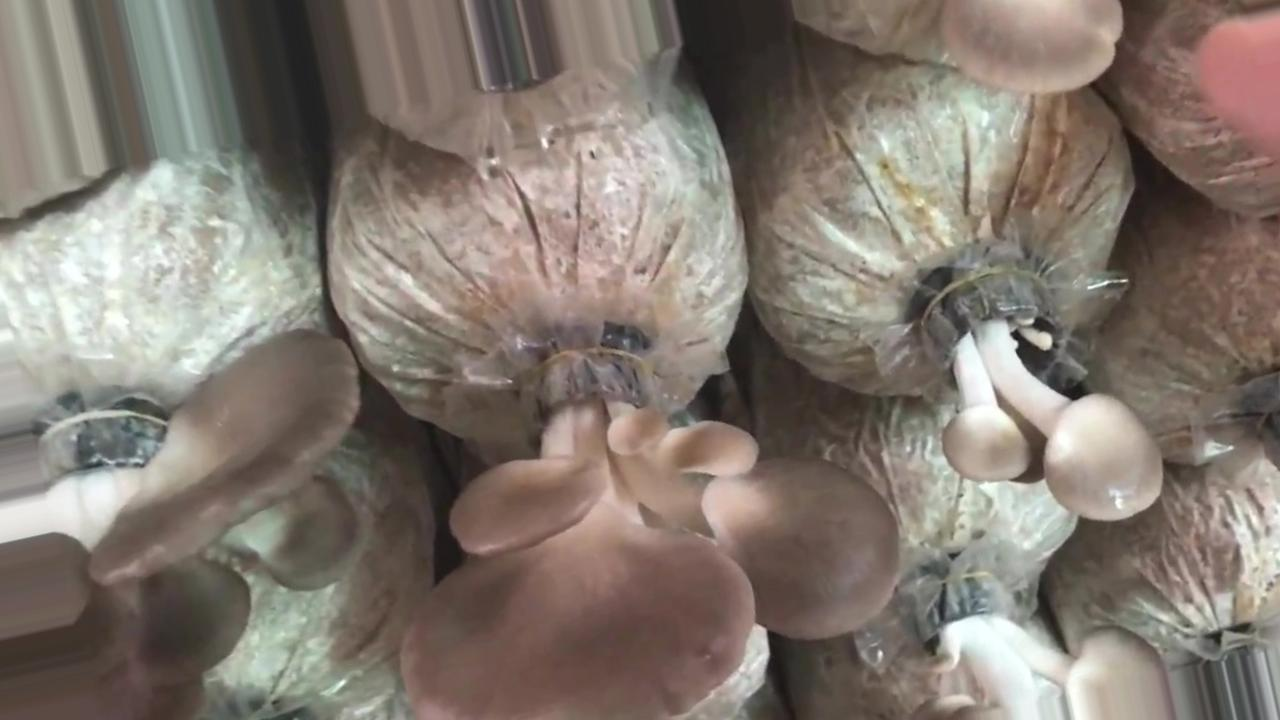nam: (404, 345, 899, 720), (1, 331, 359, 719), (941, 270, 1160, 520), (917, 573, 1170, 720), (941, 1, 1120, 92)
